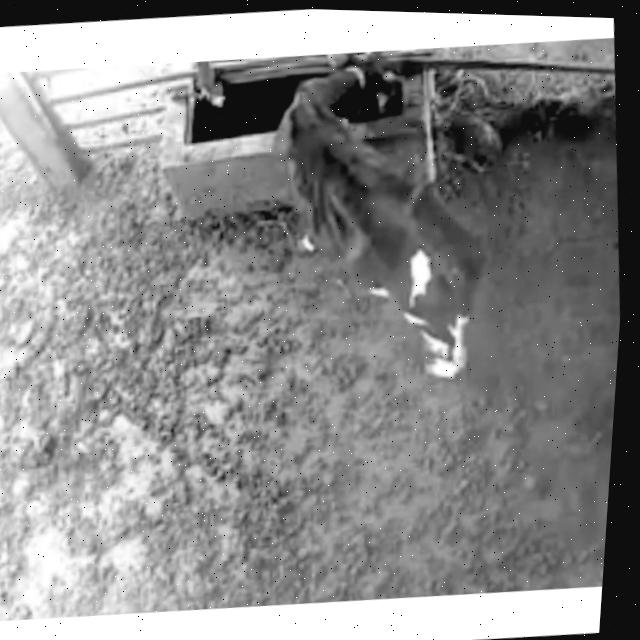drink: (266, 45, 419, 150)
